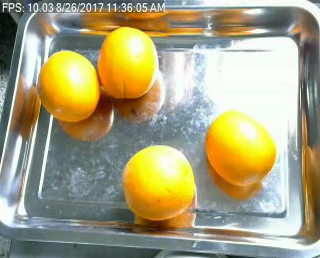Orange: (121, 143, 194, 220), (206, 111, 276, 185), (36, 49, 99, 121), (98, 26, 158, 99)
